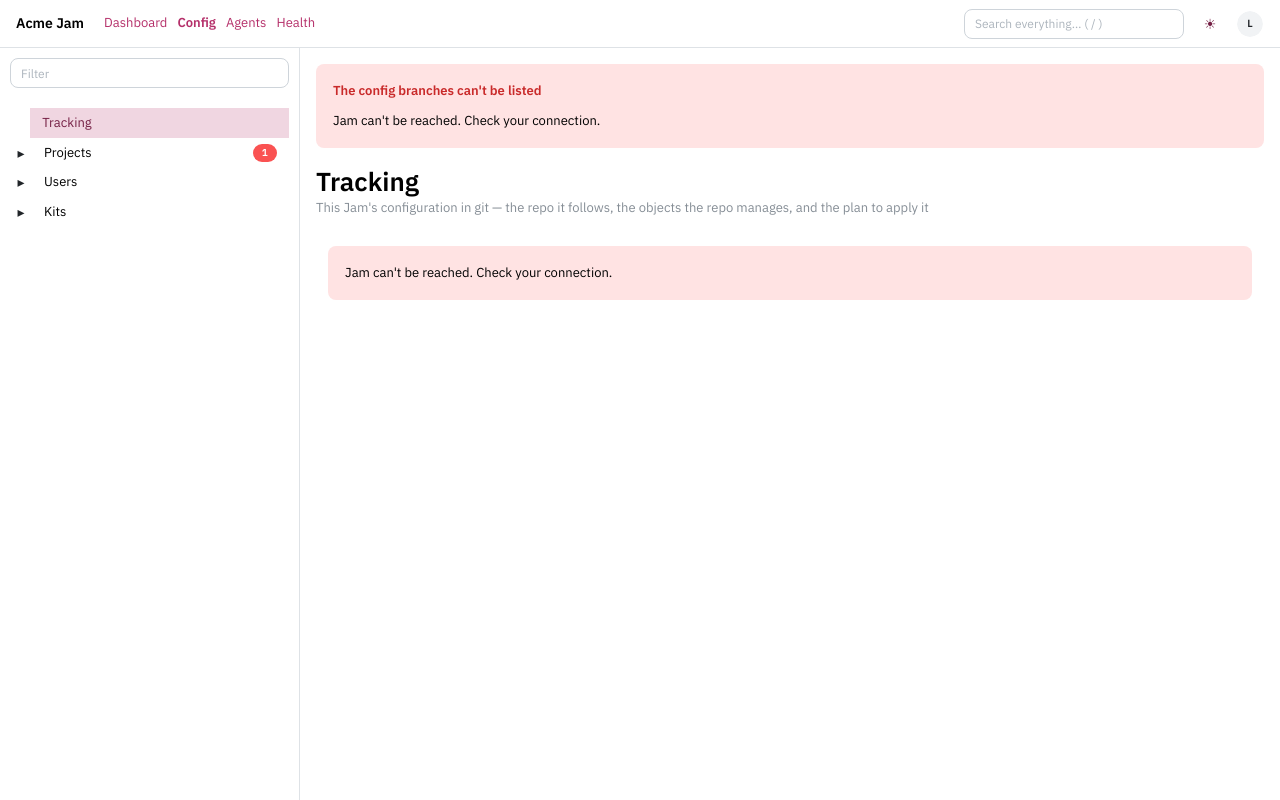
Test case: the Config tree › navigates to a group's page
Click the link "Kits". click: (55, 212)
box: [44,203,66,220]
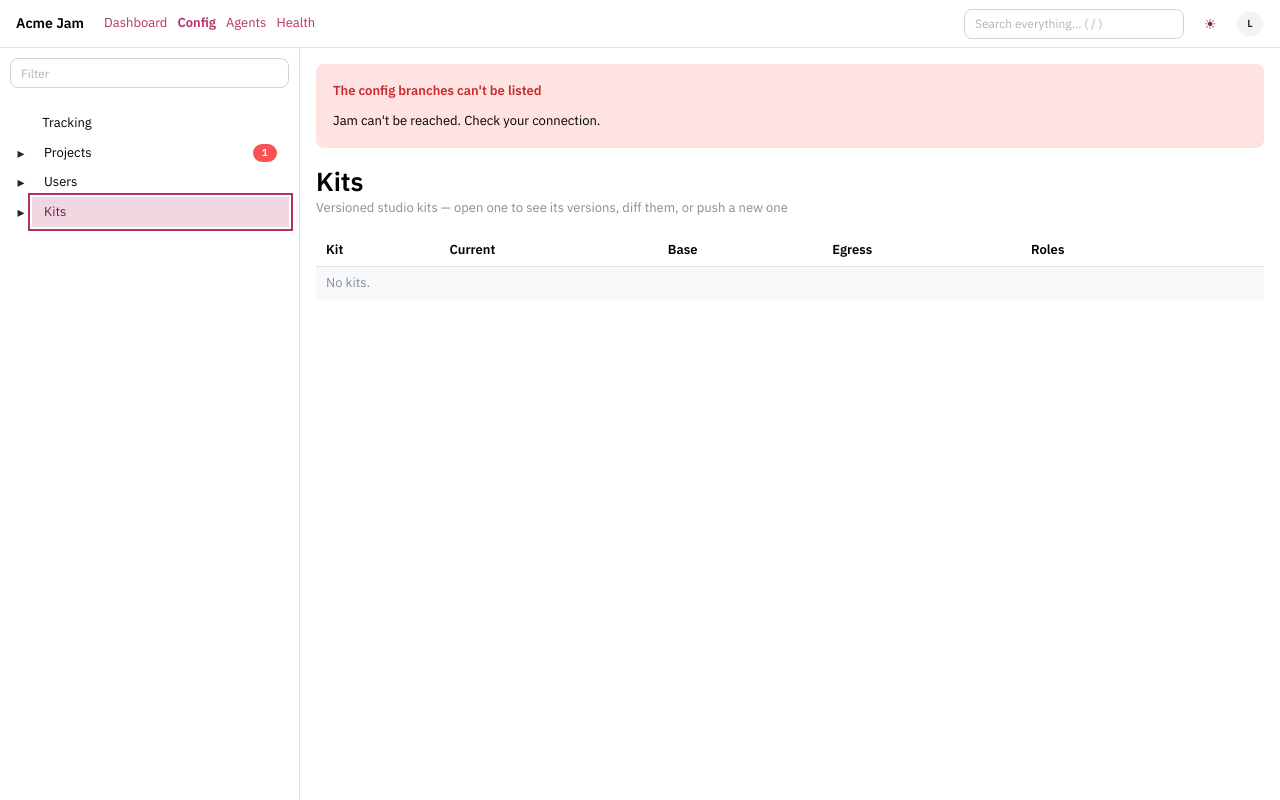
Expected: the text "No kits." is shown, [316,267,1264,300]
